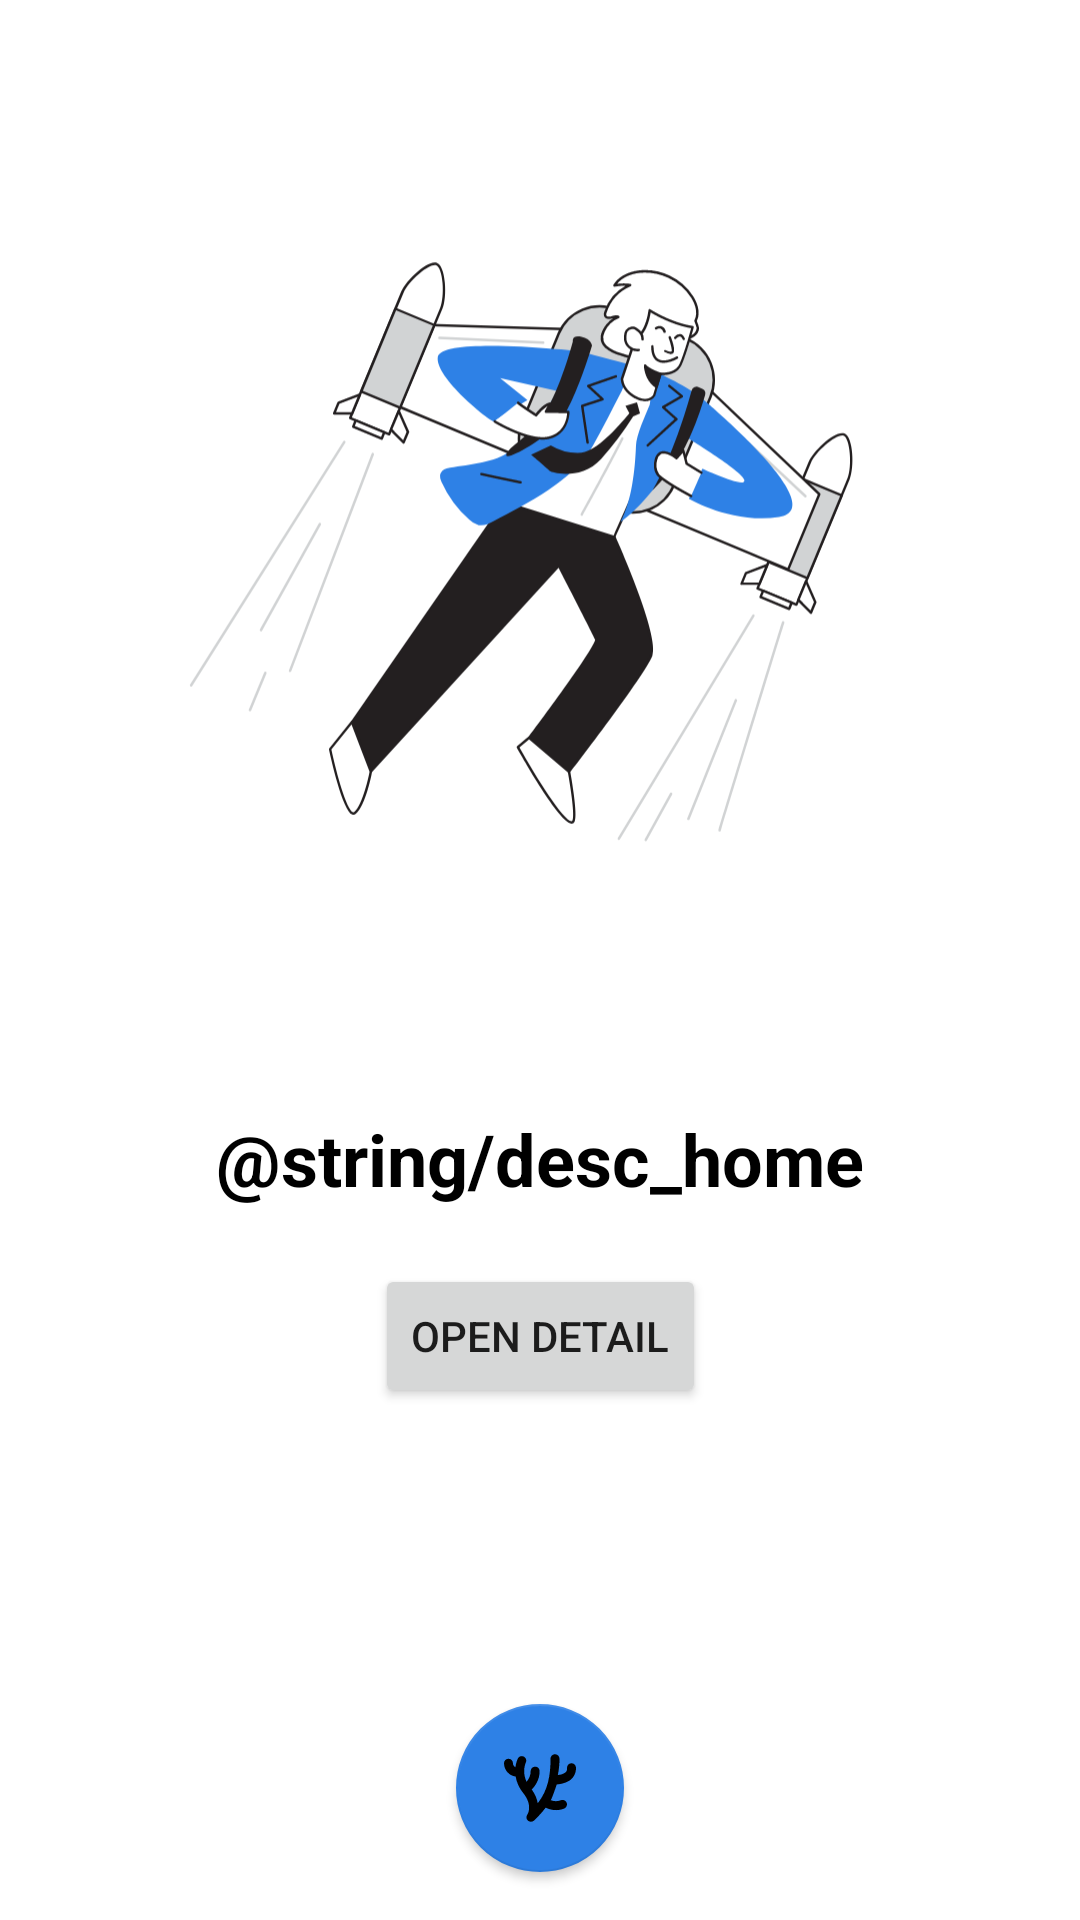

Icon click points for this 1080x1920 phone screenshot, format (x,y):
coral: (540,1788)
